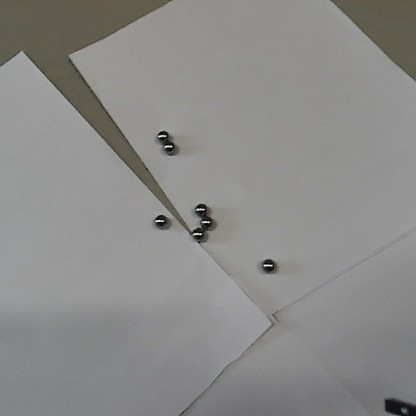ironball: (262, 257, 274, 271), (154, 213, 166, 226), (200, 215, 210, 227), (163, 140, 173, 151), (192, 228, 202, 239), (194, 203, 204, 214), (157, 129, 166, 140)
